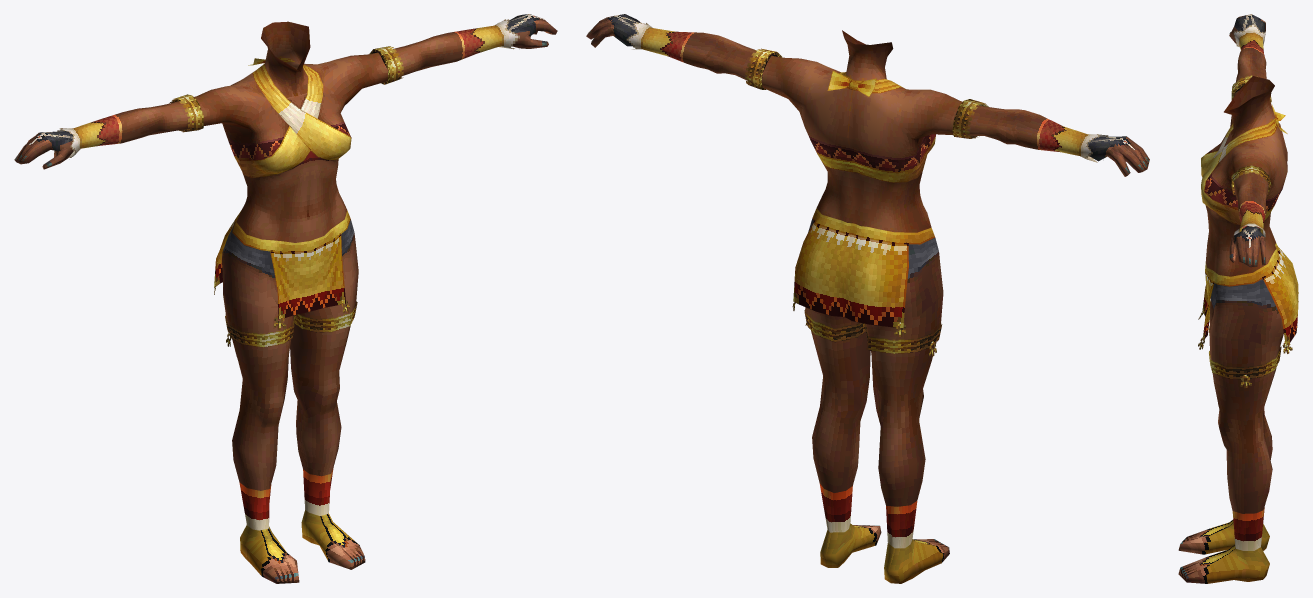
The model's file is f_body009.obj.
3 renders of one model, left to right at view 1: azimuth 30°, elevation 25°; view 2: azimuth 150°, elevation 25°; view 3: azimuth 270°, elevation 25°, orthographic. The views are drawn at different scales.
Parts seen in each view (by area): view 1: editpl_f-0000-53, editpl_f-0000-52, editpl_f-0000-51; view 2: editpl_f-0000-53, editpl_f-0000-52, editpl_f-0000-51; view 3: editpl_f-0000-53, editpl_f-0000-52, editpl_f-0000-51.
Boxes of the visible parts, box(x1,y1,x2,y2) form: editpl_f-0000-53: box(214, 210, 365, 583); editpl_f-0000-52: box(194, 21, 387, 242); editpl_f-0000-51: box(14, 14, 557, 169); editpl_f-0000-53: box(792, 208, 949, 583); editpl_f-0000-52: box(761, 30, 962, 232); editpl_f-0000-51: box(586, 14, 1149, 176); editpl_f-0000-53: box(1178, 243, 1298, 583); editpl_f-0000-52: box(1201, 76, 1287, 276); editpl_f-0000-51: box(1229, 14, 1271, 267).
Bounding box in the file's own units: 173 × 159 × 36.19.
3 materials, 3 textured.
